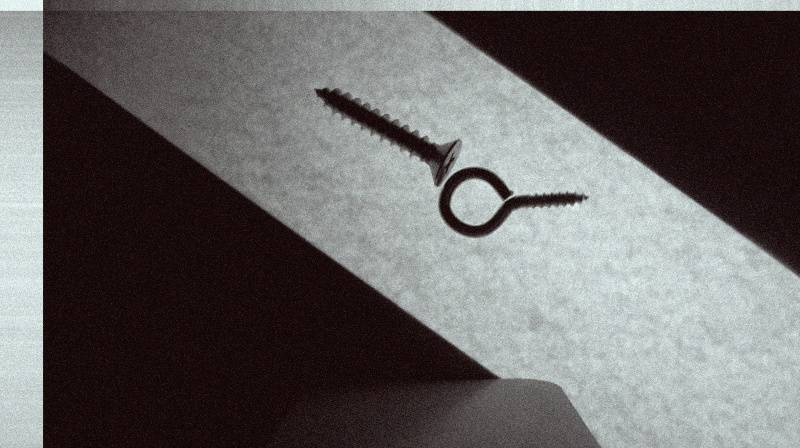O001: (437, 165, 592, 239)
S001: (310, 85, 463, 187)
